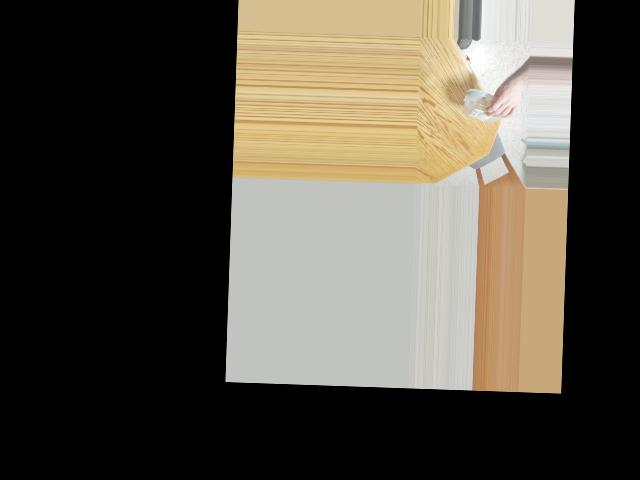cheese: (475, 87, 514, 122)
